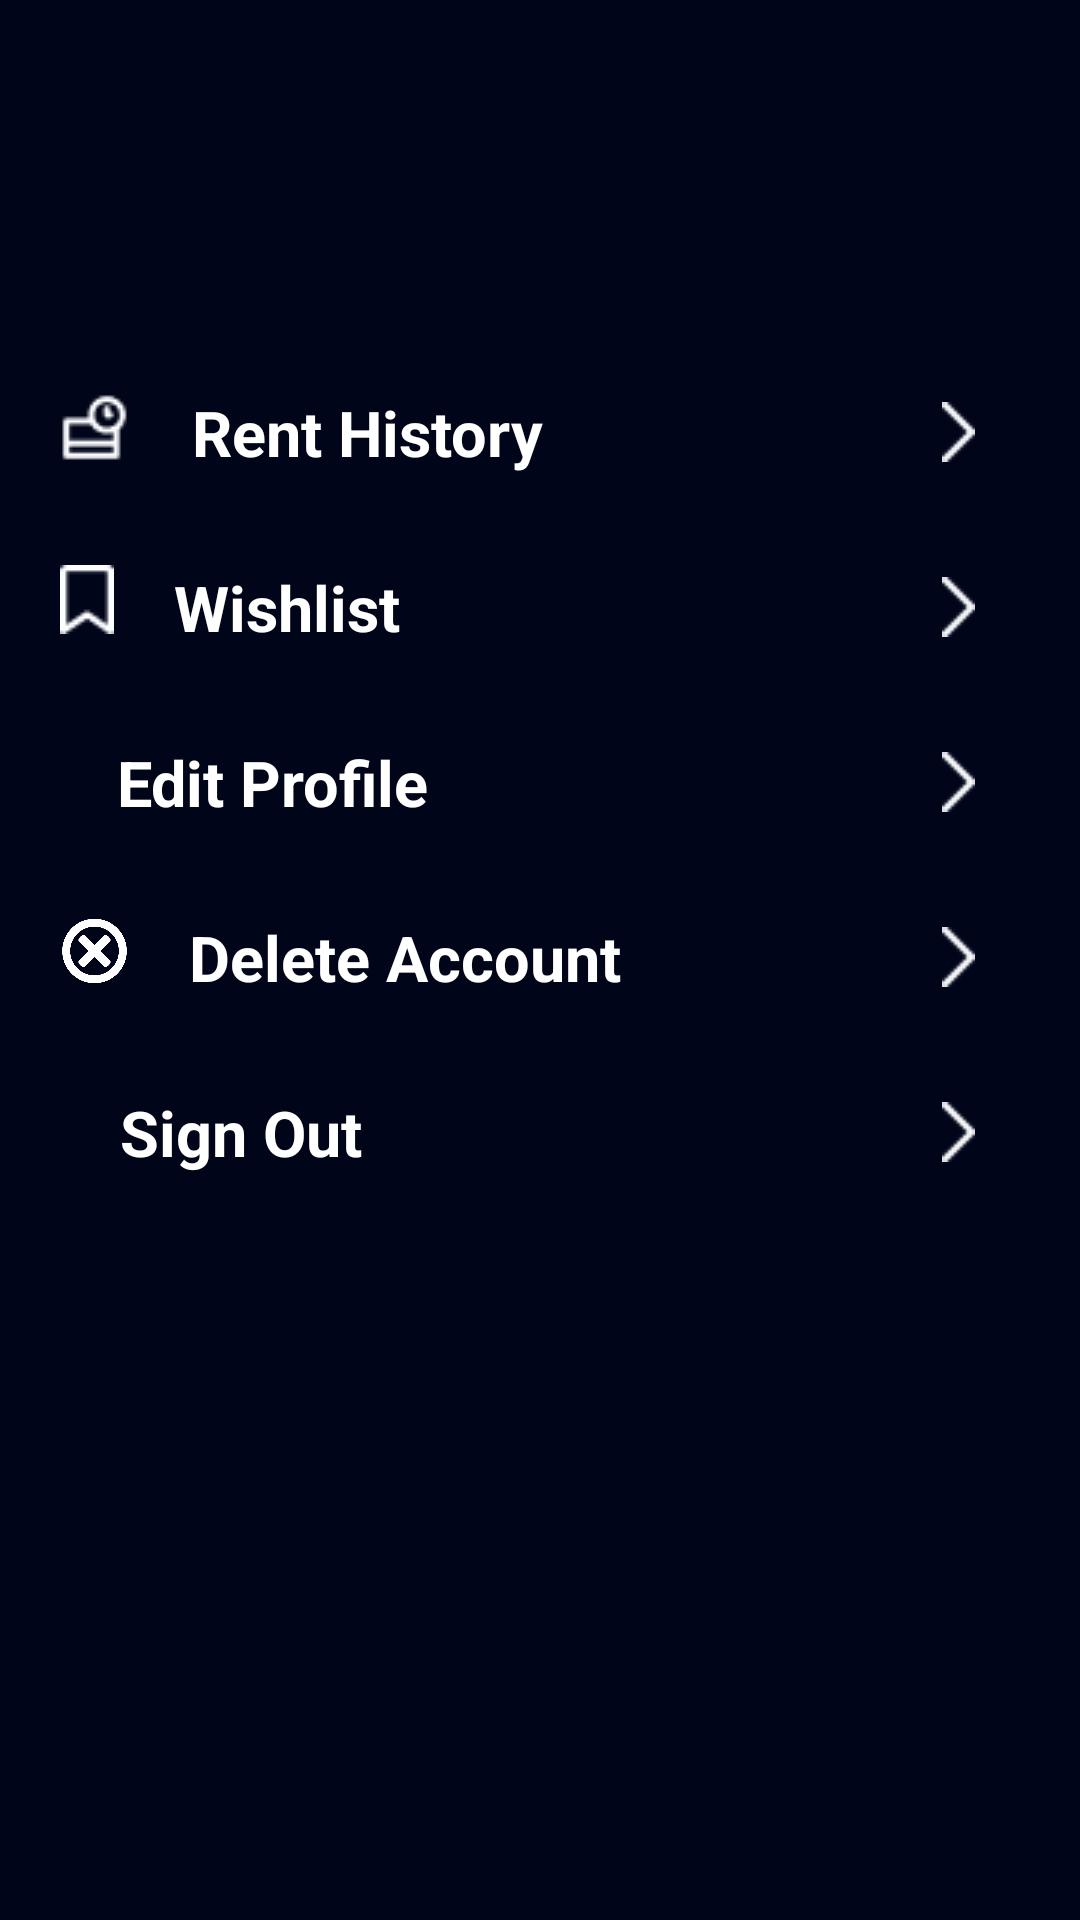

Locate icon controls on the screen. Image size 1080 × 1920, boxes as (x1,y1,x2,y2).
del acc: (62,919,127,983)
riwayat: (62,395,127,460)
